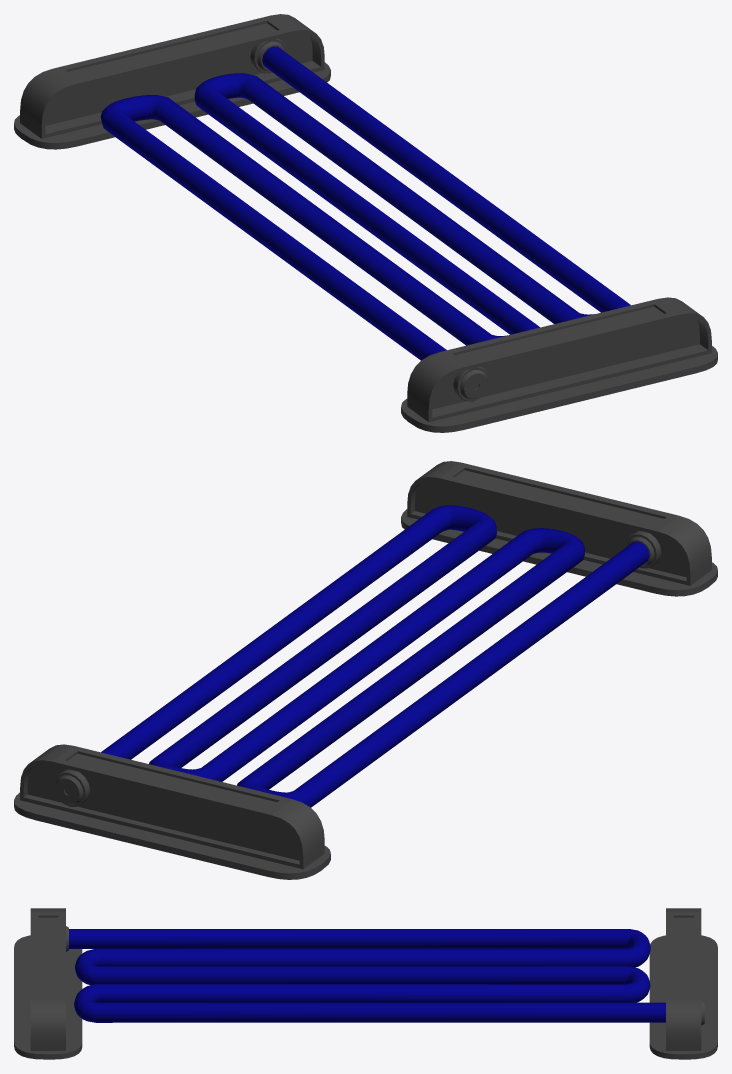
The model's file is SM_Light_lamps_lamp_4.fbx.
3 views of the same model, one above another, from view 1: azimuth 30°, elevation 25°; view 2: azimuth 150°, elevation 25°; view 3: azimuth 270°, elevation 25° (orthographic). The views are drawn at different scales.
Visible parts, largest first — view 1: SM_Light_lamps_lamp_4; view 2: SM_Light_lamps_lamp_4; view 3: SM_Light_lamps_lamp_4.
Part boxes in pixels (x1,y1,x2,y2): SM_Light_lamps_lamp_4: (14, 14, 717, 432); SM_Light_lamps_lamp_4: (14, 461, 717, 879); SM_Light_lamps_lamp_4: (14, 908, 717, 1059).
Size of the model in its own units: 42.39 by 7.15 by 105.
